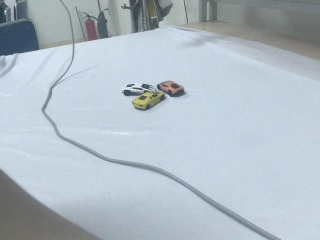toy_car: (122, 80, 185, 110), (124, 1, 173, 32), (132, 91, 165, 111), (122, 83, 157, 96), (157, 81, 184, 97)
